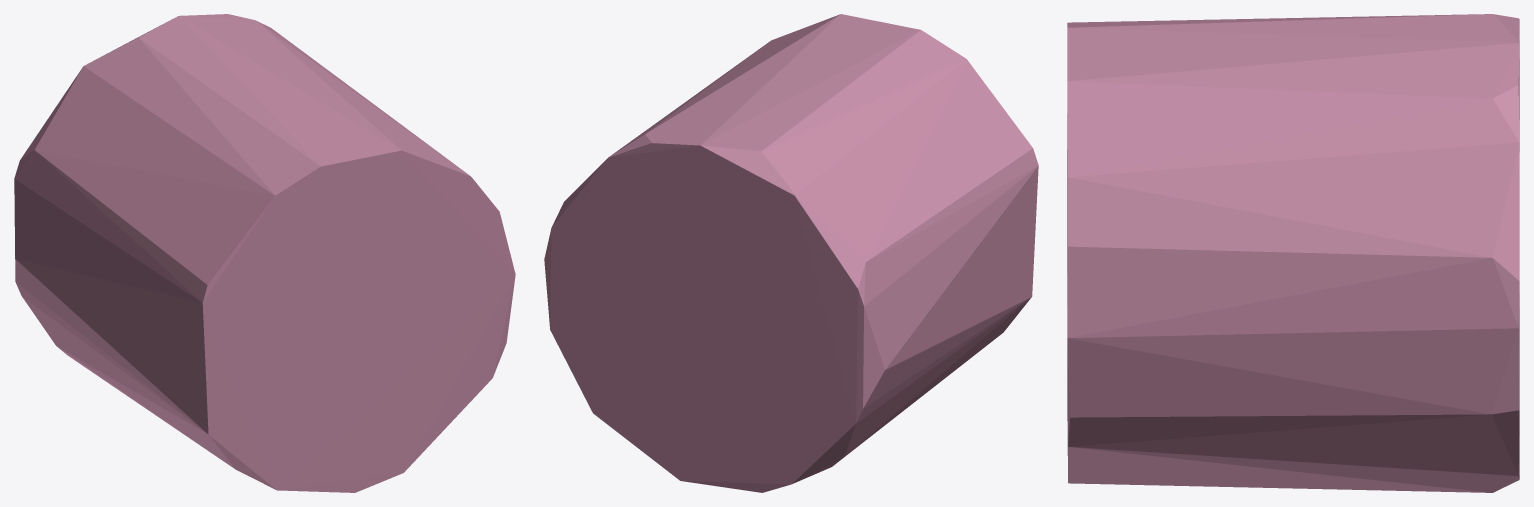
File: food_processed_jam_a03.glb
The picture shows the model from 3 angles, left to right: view 1: azimuth 30°, elevation 25°; view 2: azimuth 150°, elevation 25°; view 3: azimuth 270°, elevation 25°; orthographic projection. The views are drawn at different scales.
Parts seen in each view (by area): view 1: geometry_0; view 2: geometry_0; view 3: geometry_0.
Boxes of the visible parts, left/top/right/bottom form: geometry_0: left=14, top=14, right=515, bottom=492; geometry_0: left=544, top=14, right=1038, bottom=492; geometry_0: left=1067, top=14, right=1519, bottom=492.
Size of the model in its own units: 0.4712 by 0.4713 by 0.4485.
